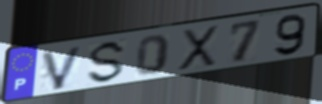0: (135, 33, 172, 78)
7: (228, 17, 263, 65)
9: (272, 12, 308, 57)
S: (85, 38, 130, 85)
V: (40, 44, 86, 92)
X: (175, 23, 221, 72)
